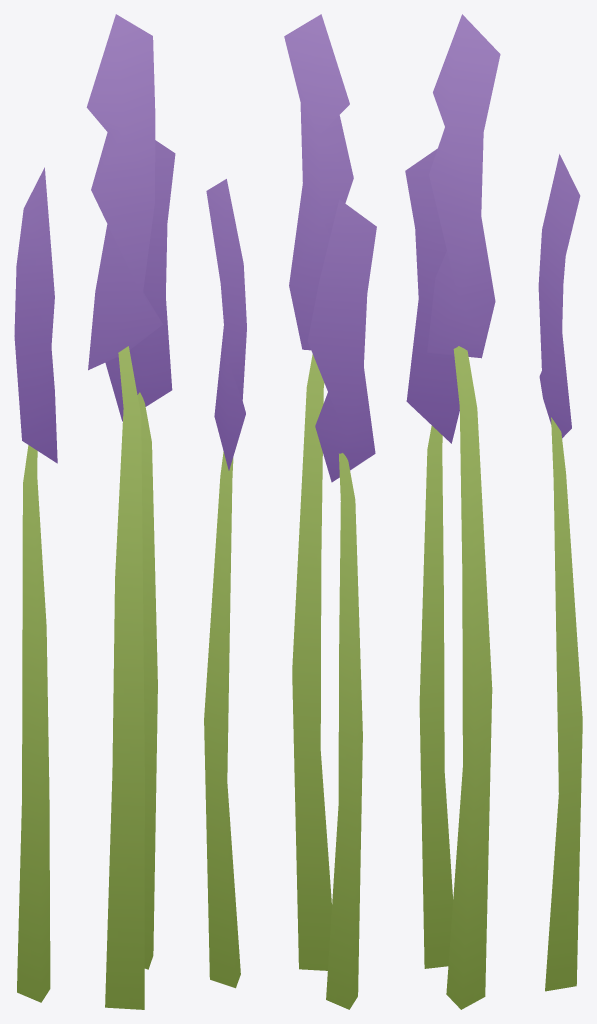
File: Flower_04.fbx
3 renders of one model, left to right at view 1: azimuth 30°, elevation 25°; view 2: azimuth 150°, elevation 25°; view 3: azimuth 330°, elevation 25°, orthographic. The views are drawn at different scales.
Parts seen in each view (by area): view 1: Flower_04_LOD0; view 2: Flower_04_LOD0; view 3: Flower_04_LOD0.
Boxes of the visible parts, bbox=[...] form: Flower_04_LOD0: bbox=[14, 14, 175, 1009]; Flower_04_LOD0: bbox=[204, 14, 376, 1009]; Flower_04_LOD0: bbox=[405, 14, 582, 1009].
Size of what is drawn, in the model's own units: 0.0808 by 0.465 by 0.0511.
